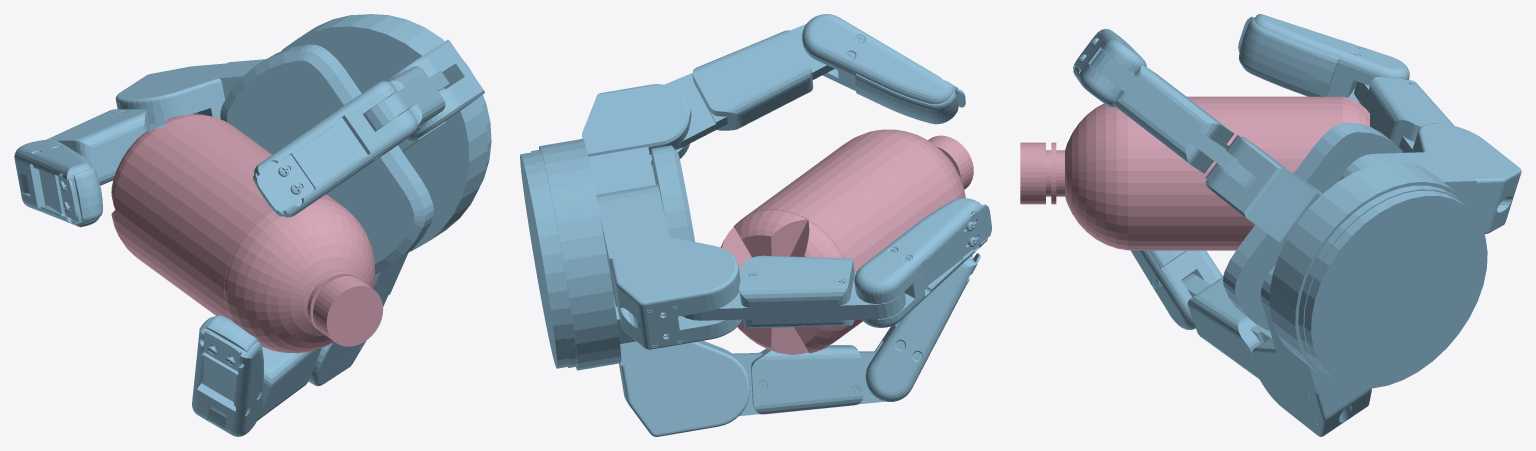
3 renders of one model, left to right at view 1: azimuth 30°, elevation 25°; view 2: azimuth 150°, elevation 25°; view 3: azimuth 270°, elevation 25°, orthographic. The views are drawn at different scales.
Visible parts, largest first — view 1: world, water_bottle.stl; view 2: world, water_bottle.stl; view 3: world, water_bottle.stl.
Part boxes in pixels (left/top/right/bottom): world: left=14, top=14, right=491, bottom=436; water_bottle.stl: left=111, top=114, right=383, bottom=353; world: left=520, top=14, right=991, bottom=436; water_bottle.stl: left=721, top=129, right=973, bottom=354; world: left=1073, top=14, right=1521, bottom=436; water_bottle.stl: left=1020, top=96, right=1369, bottom=250.
Size of the model in its own units: 0.194 by 0.1549 by 0.1957.
